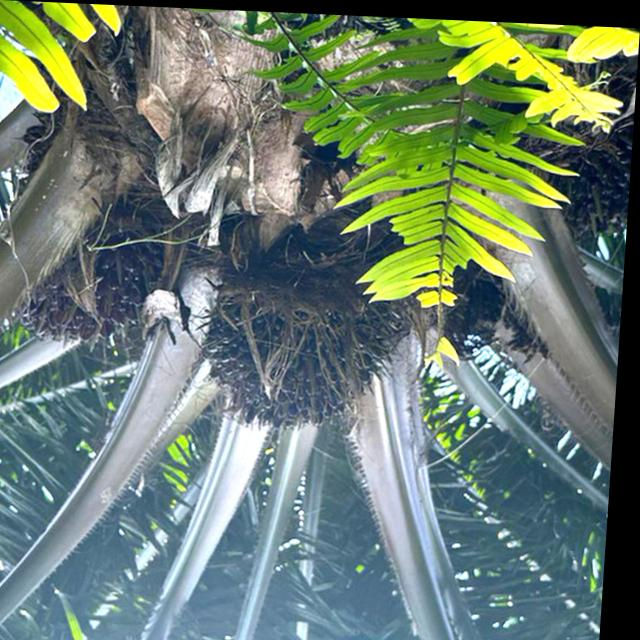unripe: (2, 110, 180, 357), (196, 234, 399, 450)
